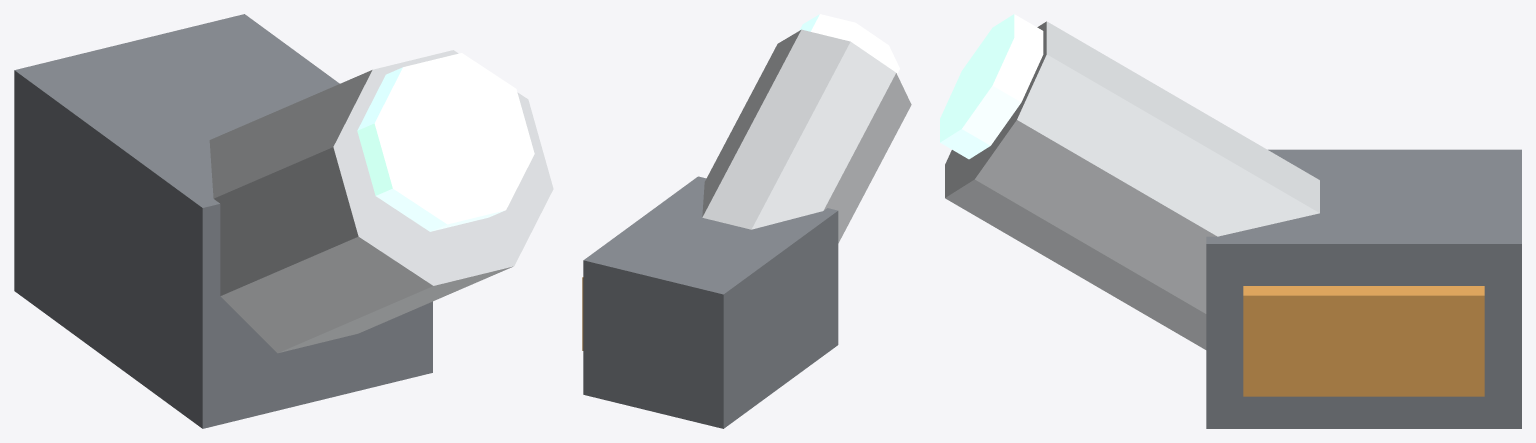
File: plasma-mortar.glb
The picture shows the model from 3 angles, left to right: view 1: azimuth 30°, elevation 25°; view 2: azimuth 150°, elevation 25°; view 3: azimuth 270°, elevation 25°; orthographic projection. The views are drawn at different scales.
Visible parts, largest first — view 1: gun; view 2: gun; view 3: gun.
Boxes of the visible parts, bbox=[...] form: gun: bbox=[14, 14, 553, 428]; gun: bbox=[582, 14, 911, 428]; gun: bbox=[940, 14, 1521, 428].
Size of the model in its own units: 0.265 by 0.423 by 0.6268.
